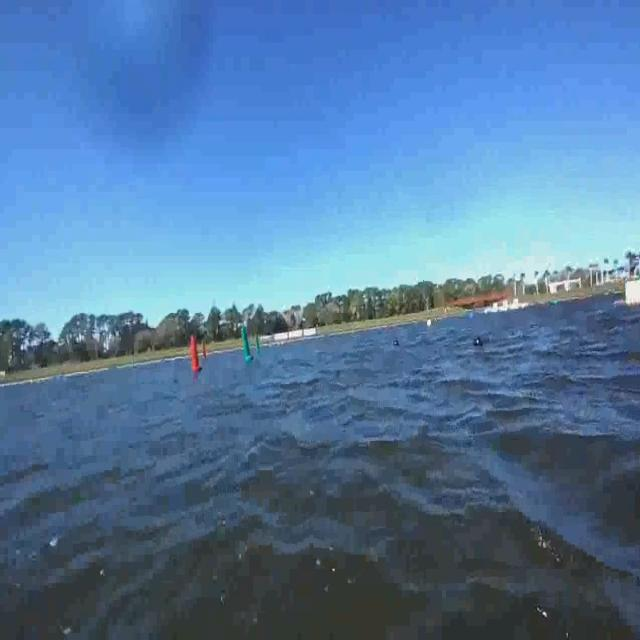black-buoy: (475, 336, 483, 346)
green-buoy: (555, 298, 560, 305)
green-column-buoy: (238, 327, 252, 363), (255, 336, 261, 353)
red-column-buoy: (188, 336, 201, 373), (203, 342, 208, 360)
yellow-buoy: (426, 318, 433, 329)
